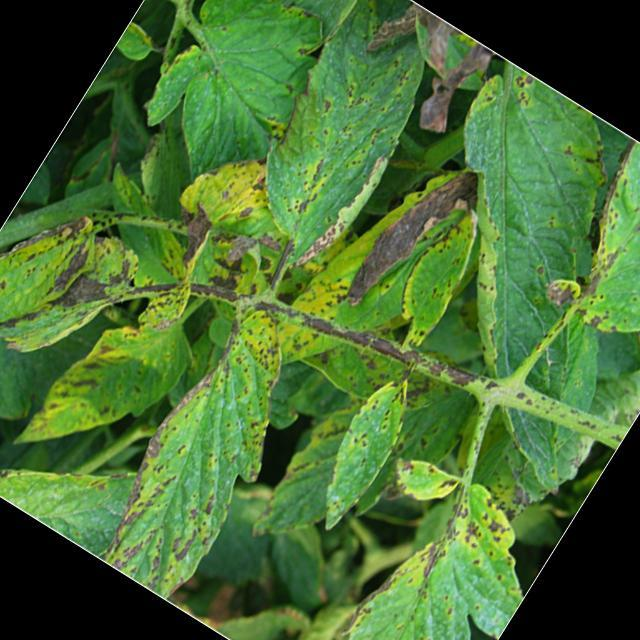Tomato bacterial spot leaf: (323, 57, 640, 490), (72, 284, 356, 612), (200, 0, 463, 299), (121, 0, 382, 219), (303, 445, 573, 640), (1, 270, 208, 507), (286, 360, 436, 545), (529, 134, 640, 374), (0, 171, 116, 374), (368, 201, 498, 359), (374, 440, 466, 524)
